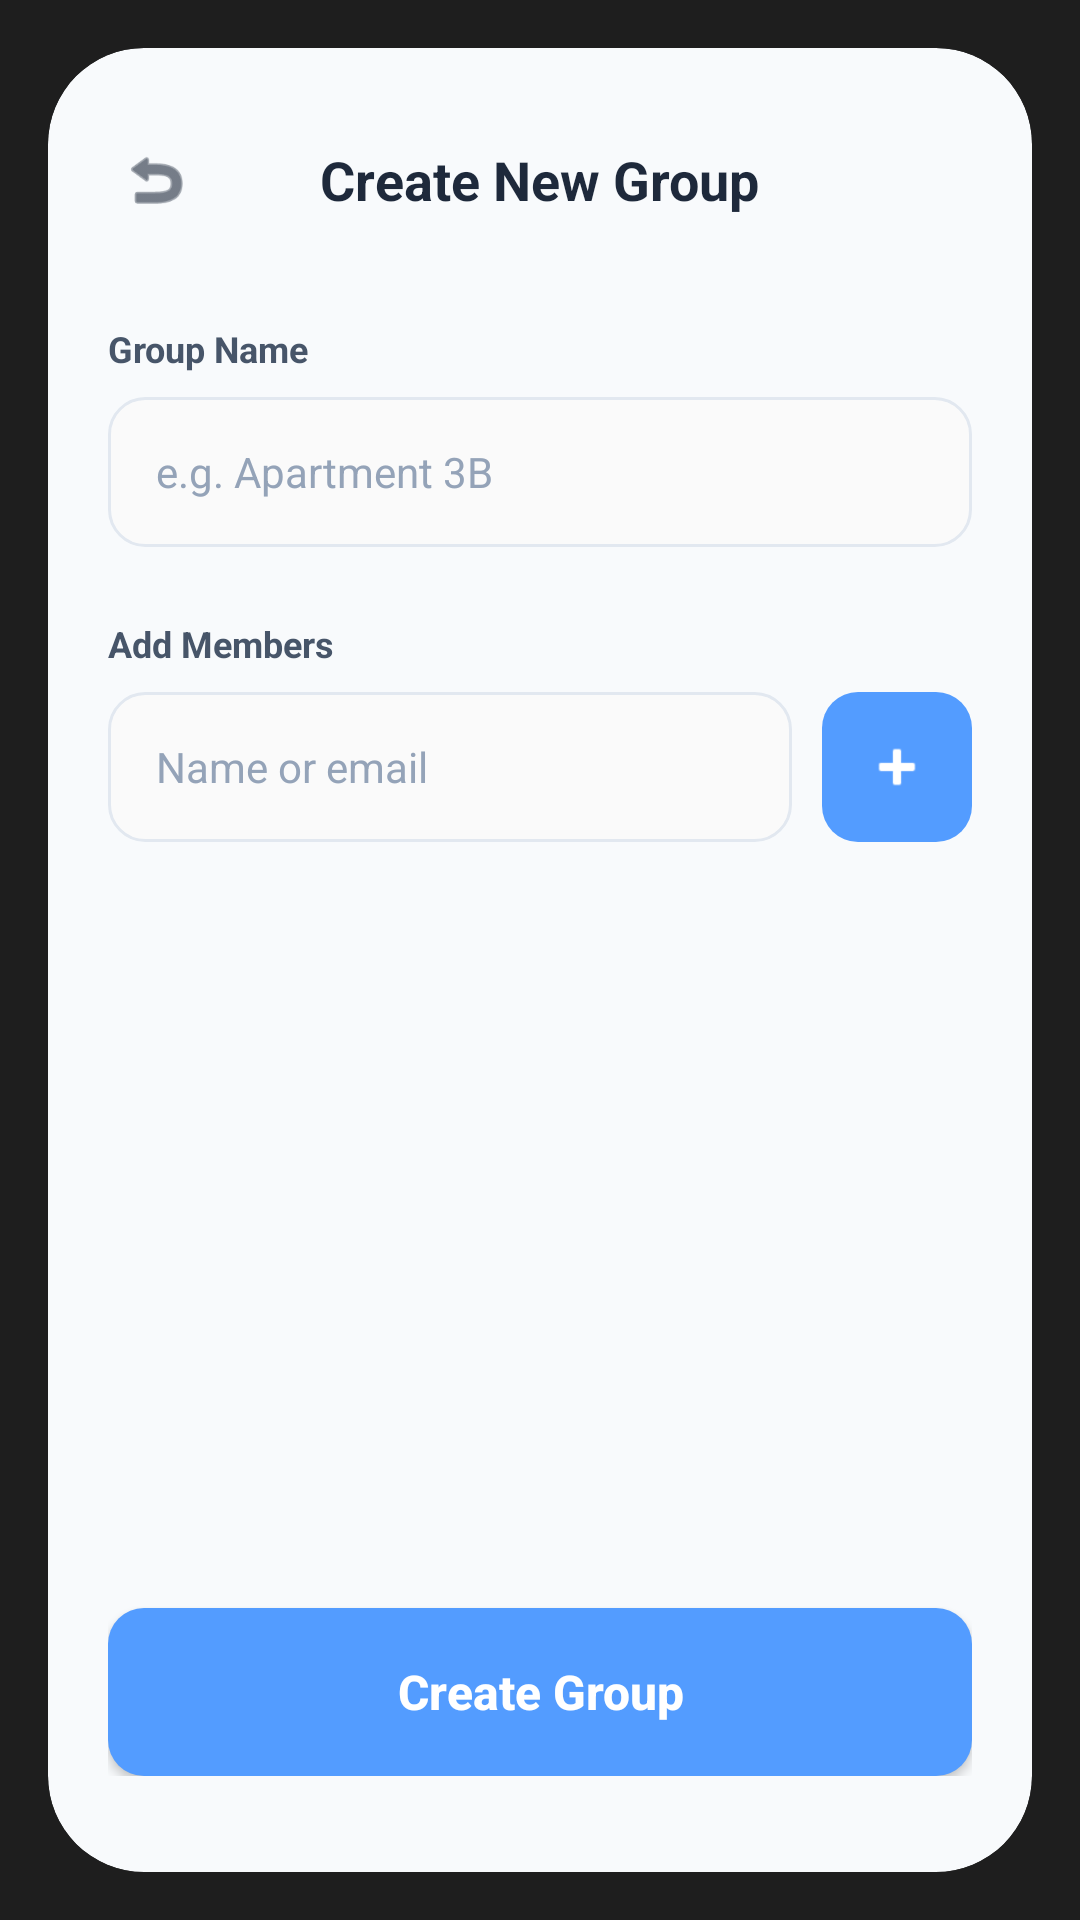

Named icons in this screenshot (1080x1920) and their centers, (x=x, y=y):
add: (x=897, y=767)
revert: (x=157, y=180)
